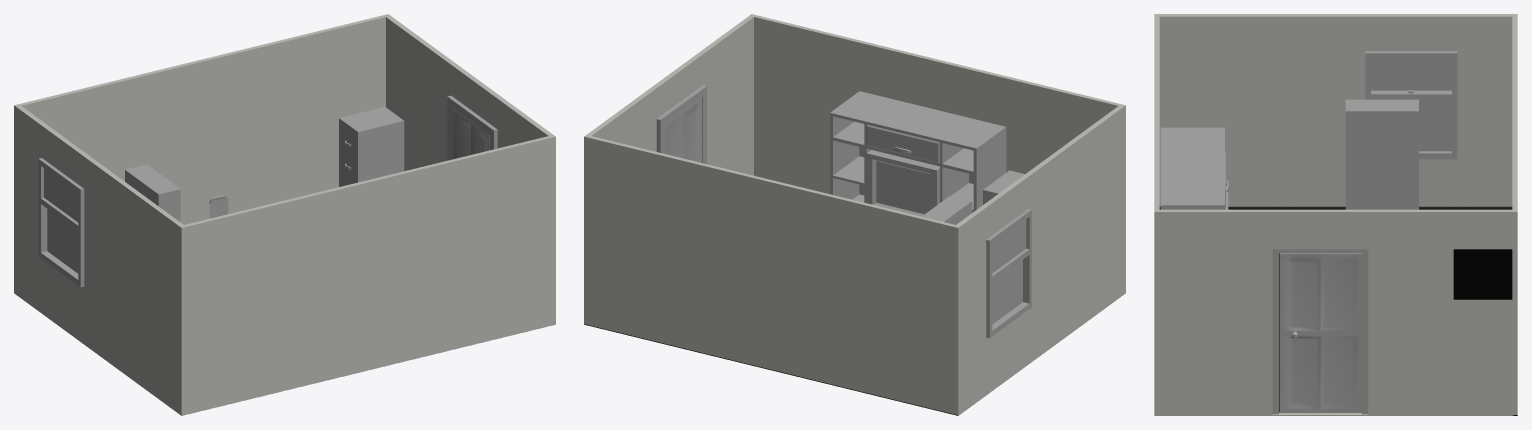
The model's file is Room Setup.fbx.
3 views of the same model, side by side, from view 1: azimuth 30°, elevation 25°; view 2: azimuth 150°, elevation 25°; view 3: azimuth 270°, elevation 25° (orthographic). The views are drawn at different scales.
Parts seen in each view (by area): view 1: Room, FilingCabinet2, WindowFrame, person, BottomGlass, Door, TopGlass, DoorFrame; view 2: Room, pasted__Cabinet, pasted__TV, WindowFrame, Door, BottomGlass, DoorFrame, TopGlass, person, FilingCabinet; view 3: Room, Door, person, pasted__Cabinet, DoorFrame, WindowFrame, TopGlass, BottomGlass.
Boxes of the visible parts, x1=… form: Room: x1=14, y1=14, x2=555, y2=415; FilingCabinet2: x1=339, y1=107, x2=404, y2=186; WindowFrame: x1=38, y1=158, x2=84, y2=287; person: x1=125, y1=164, x2=180, y2=222; BottomGlass: x1=47, y1=209, x2=78, y2=273; Door: x1=451, y1=108, x2=489, y2=159; TopGlass: x1=44, y1=168, x2=78, y2=222; DoorFrame: x1=447, y1=95, x2=497, y2=160; Room: x1=584, y1=14, x2=1125, y2=415; pasted__Cabinet: x1=830, y1=91, x2=1006, y2=212; pasted__TV: x1=866, y1=150, x2=939, y2=216; WindowFrame: x1=986, y1=209, x2=1031, y2=338; Door: x1=664, y1=98, x2=702, y2=162; BottomGlass: x1=992, y1=260, x2=1022, y2=324; DoorFrame: x1=656, y1=85, x2=706, y2=163; TopGlass: x1=992, y1=219, x2=1026, y2=272; person: x1=922, y1=195, x2=972, y2=224; FilingCabinet: x1=983, y1=170, x2=1024, y2=204; Room: x1=1154, y1=14, x2=1517, y2=415; Door: x1=1280, y1=253, x2=1361, y2=412; person: x1=1345, y1=99, x2=1418, y2=209; pasted__Cabinet: x1=1160, y1=127, x2=1225, y2=209; DoorFrame: x1=1272, y1=249, x2=1368, y2=414; WindowFrame: x1=1365, y1=51, x2=1457, y2=159; TopGlass: x1=1371, y1=59, x2=1451, y2=90; BottomGlass: x1=1419, y1=100, x2=1451, y2=151.
Size of the model in its own units: 5.21 by 2.45 by 3.96.
